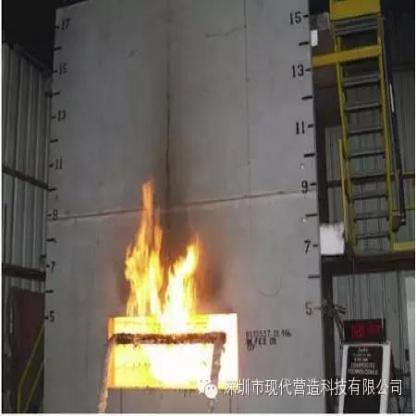fire: (109, 168, 215, 382)
